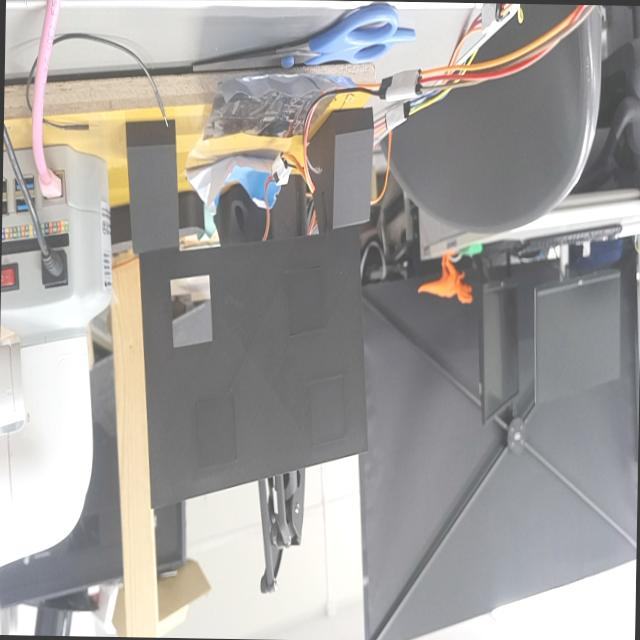Obstacle: (170, 273, 213, 347)
Wall: (140, 227, 367, 506)
